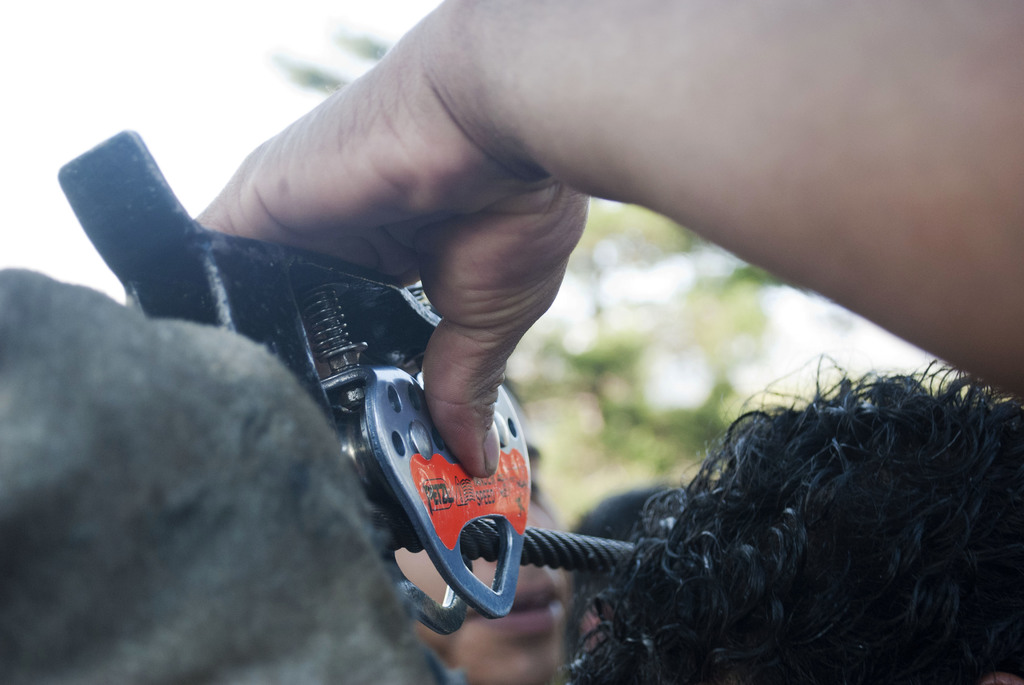Human_hand: (196, 31, 595, 473)
